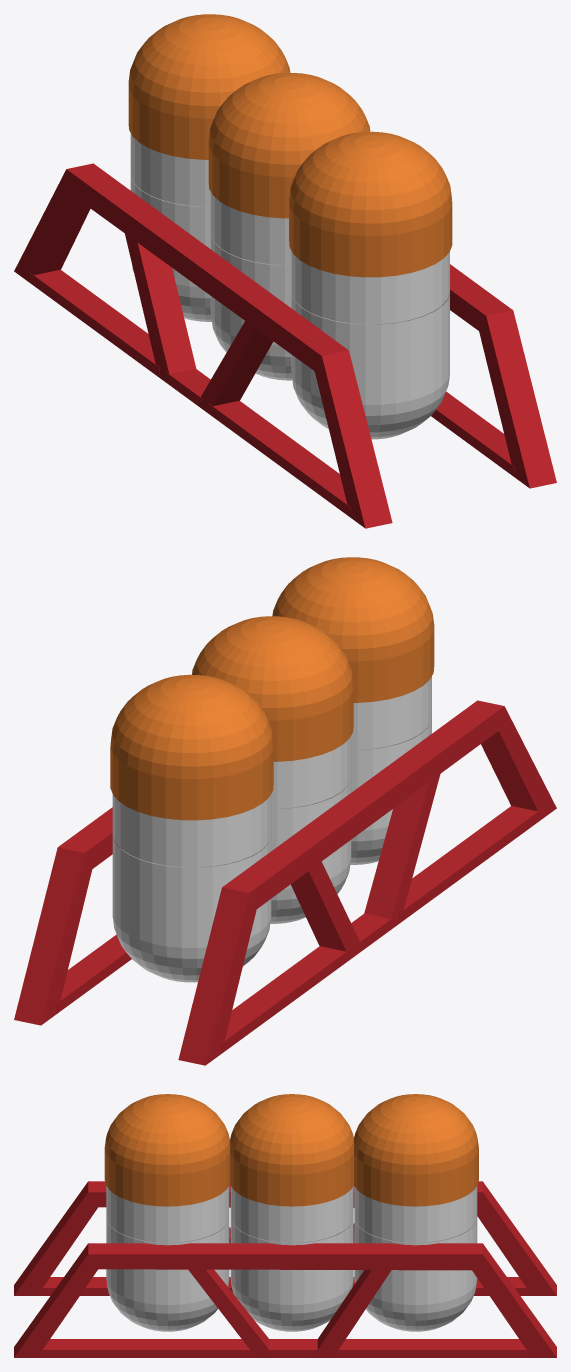
The model's file is Containers.fbx.
The picture shows the model from 3 angles, top to bottom: view 1: azimuth 30°, elevation 25°; view 2: azimuth 150°, elevation 25°; view 3: azimuth 270°, elevation 25°; orthographic projection. The views are drawn at different scales.
Parts seen in each view (by area): view 1: Sphere.006; view 2: Sphere.006; view 3: Sphere.006.
Boxes of the visible parts, x1,y1,x2,y2 form: Sphere.006: (14,14,556,528); Sphere.006: (14,557,556,1065); Sphere.006: (14,1094,556,1357).
Size of the model in its own units: 237 by 336 by 736.
